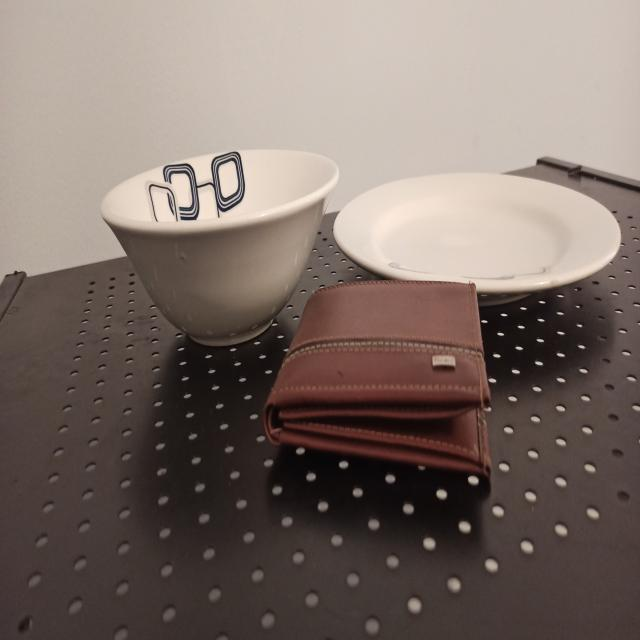non-organic waste: (69, 117, 332, 397), (304, 120, 631, 325)
